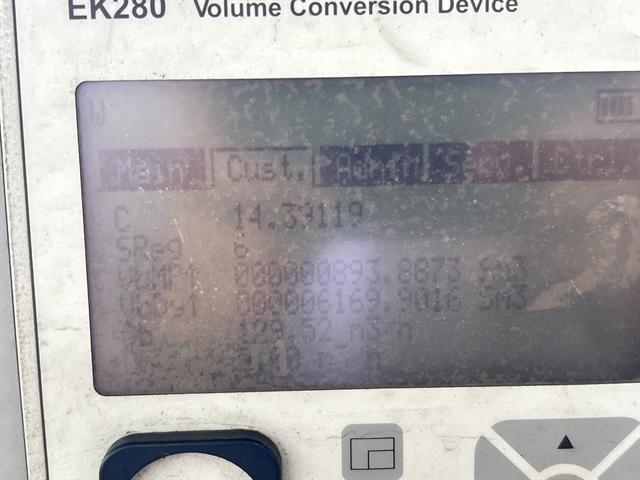digital_screen: (78, 75, 640, 392)
